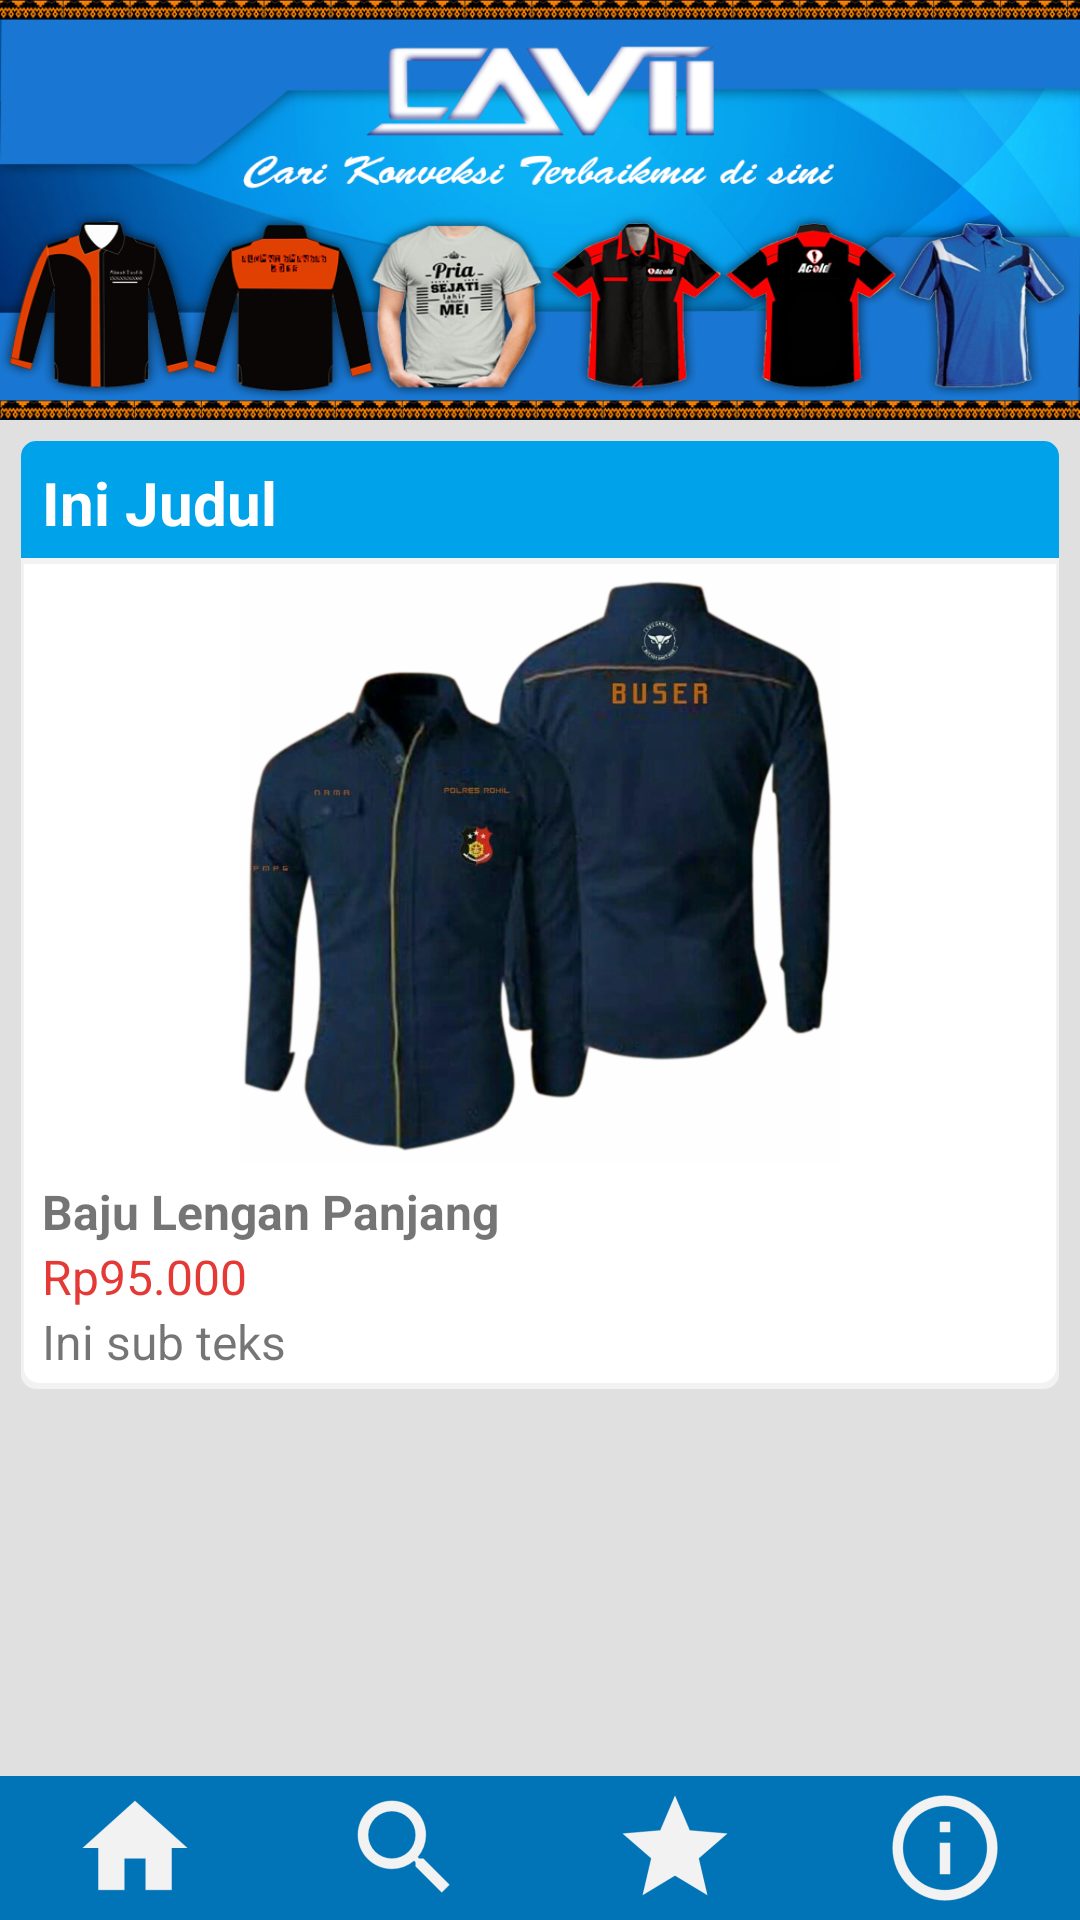

Where icons sit on this 1080px x 1920px app screen, as bbox=[x1, y1, x2, y2]:
cavii fav: bbox=[622, 1796, 728, 1895]
cavii home: bbox=[82, 1801, 188, 1891]
cavii info: bbox=[892, 1795, 998, 1901]
cavii search: bbox=[357, 1800, 450, 1893]
